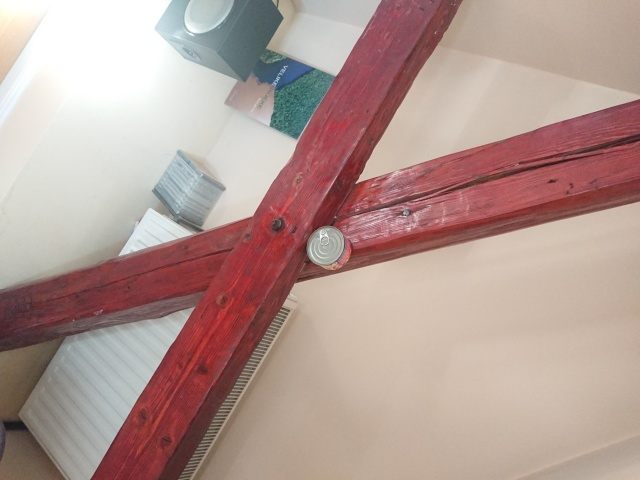Giana Tuna Salad Mexico 185g: (303, 224, 353, 272)
